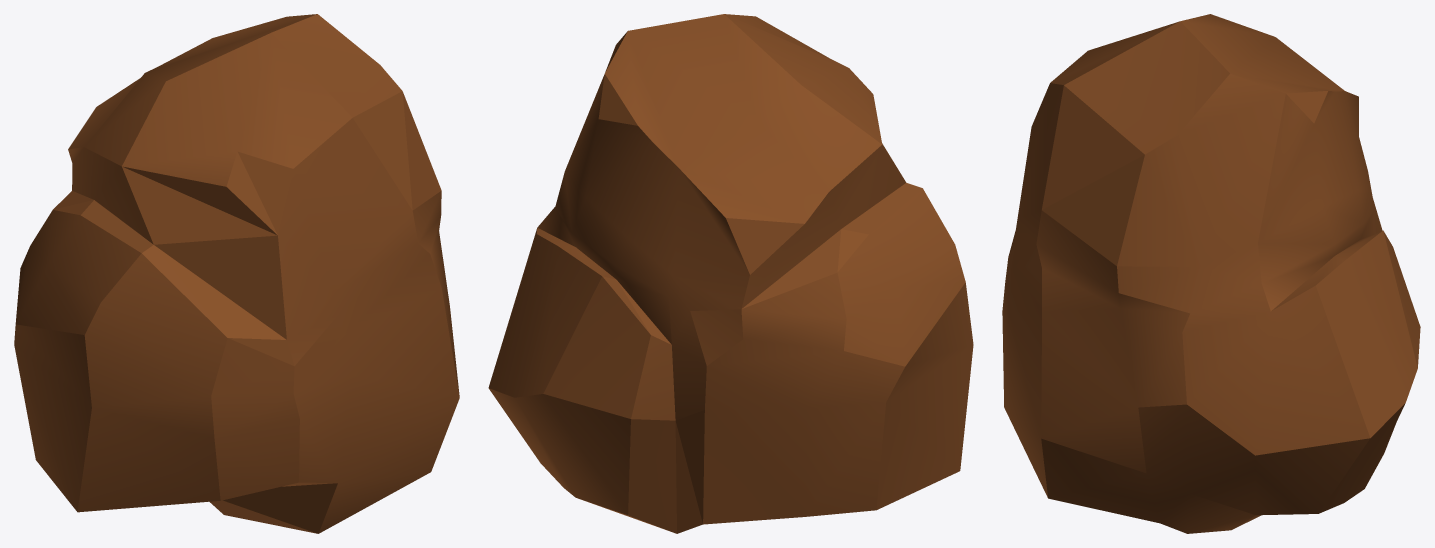
Rendered from Rock_1_Cube.obj.
3 renders of one model, left to right at view 1: azimuth 30°, elevation 25°; view 2: azimuth 150°, elevation 25°; view 3: azimuth 270°, elevation 25°, orthographic. The views are drawn at different scales.
Parts seen in each view (by area): view 1: Rock_1_Cube.015; view 2: Rock_1_Cube.015; view 3: Rock_1_Cube.015.
Boxes of the visible parts, x1,y1,x2,y2 form: Rock_1_Cube.015: [14, 14, 459, 533]; Rock_1_Cube.015: [488, 14, 973, 533]; Rock_1_Cube.015: [1002, 14, 1420, 533].
Bounding box in the file's own units: 3.1 × 3.61 × 2.83.
